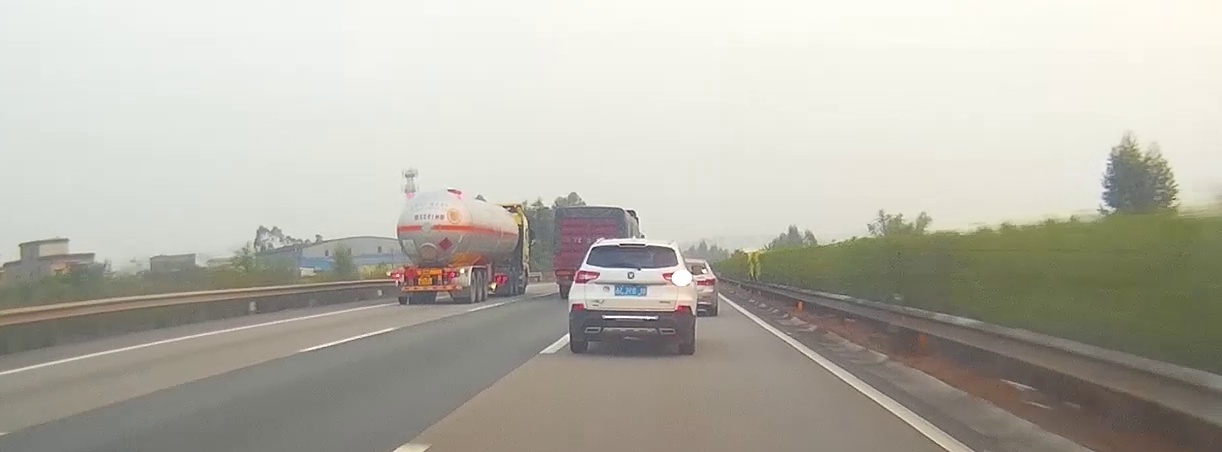L_light: (574, 270, 601, 284), (392, 273, 402, 279)
R_light: (662, 272, 692, 285), (448, 272, 459, 278)
T_light: (619, 243, 646, 248), (422, 269, 433, 272)
day-no: (389, 264, 472, 305)
day-right: (568, 237, 696, 355)
